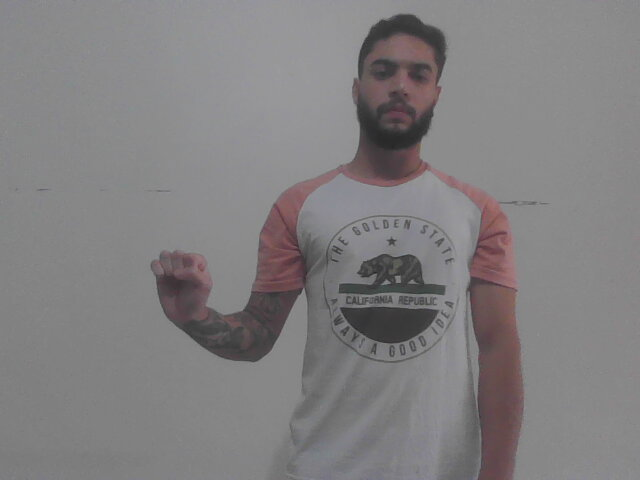s: (147, 243, 216, 322)
